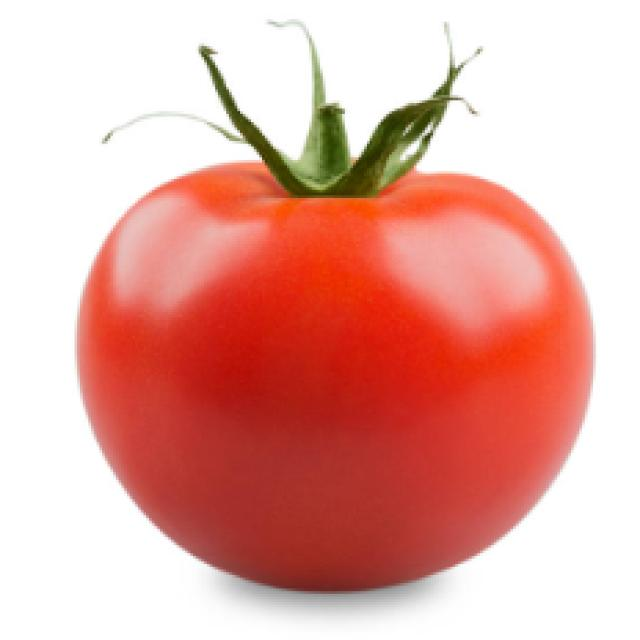Tomato: (79, 40, 611, 623)
